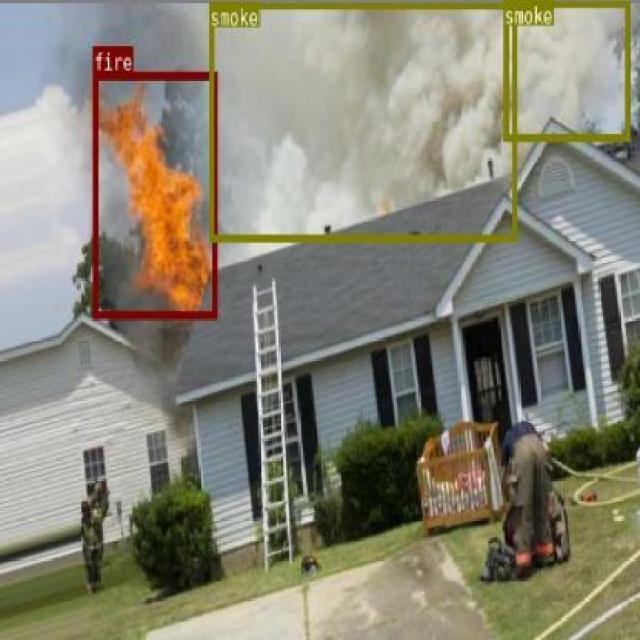Fire: (92, 67, 216, 315)
Smoke: (207, 0, 515, 238), (503, 0, 629, 138)
